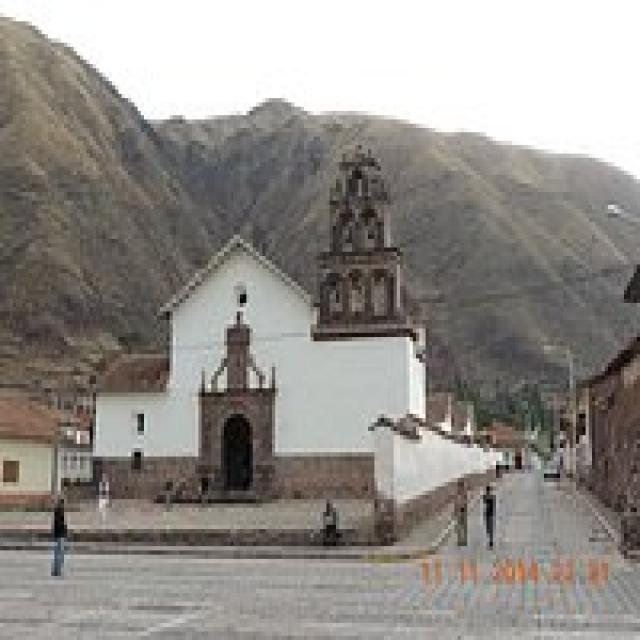6: (313, 147, 417, 512)
CAMPANARIO: (319, 156, 408, 334)
CUPULA: (0, 54, 557, 546)
SIMETRIA COLONIAL: (197, 367, 285, 516)
